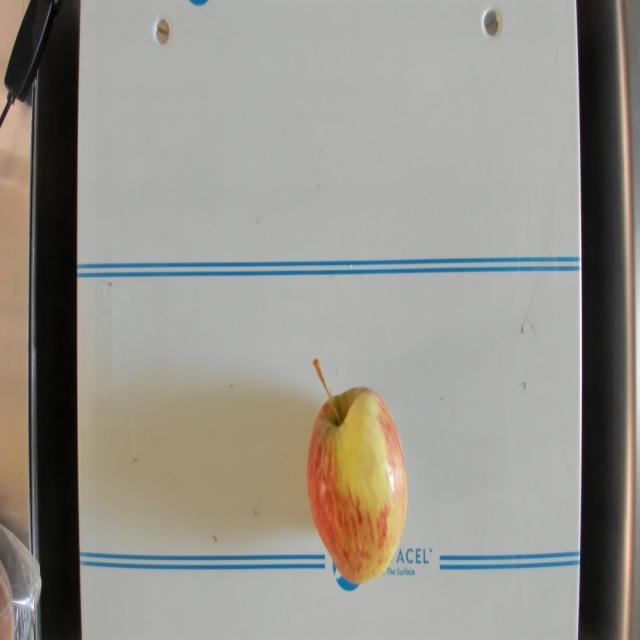apple: (307, 354, 409, 585)
